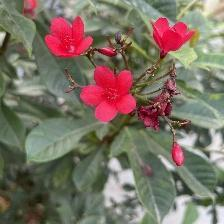jatropha: (76, 64, 141, 127), (44, 16, 93, 62), (150, 14, 200, 56)
